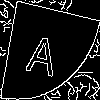A: (25, 25, 63, 77)
